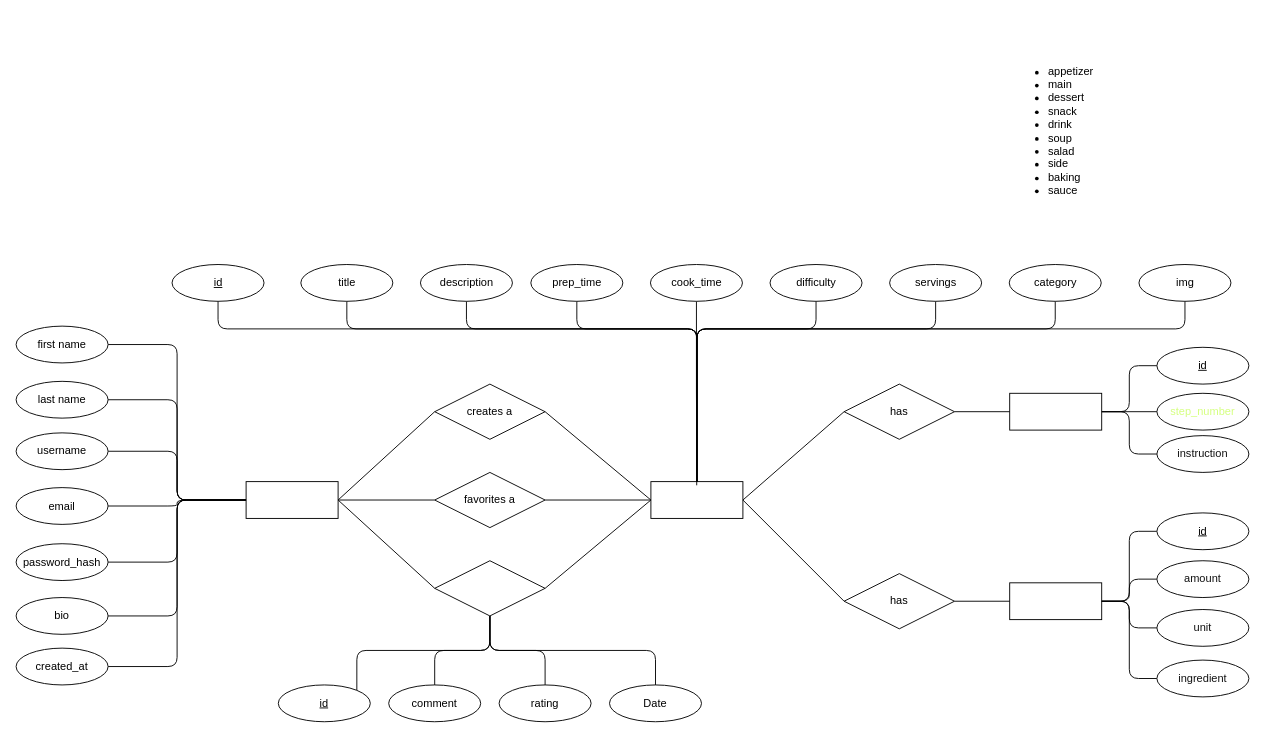
This 1265x738 diagram has some shape labels left out. The shapes that lost their labels are listed below. From the top down, each one's box as (x1, y1, x2, y2) in pixels, then its label:
(1009, 392, 1102, 430): instructions
(245, 481, 338, 518): users
(650, 481, 743, 518): recipes
(434, 560, 545, 616): rates a
(1009, 582, 1102, 620): ingredients
